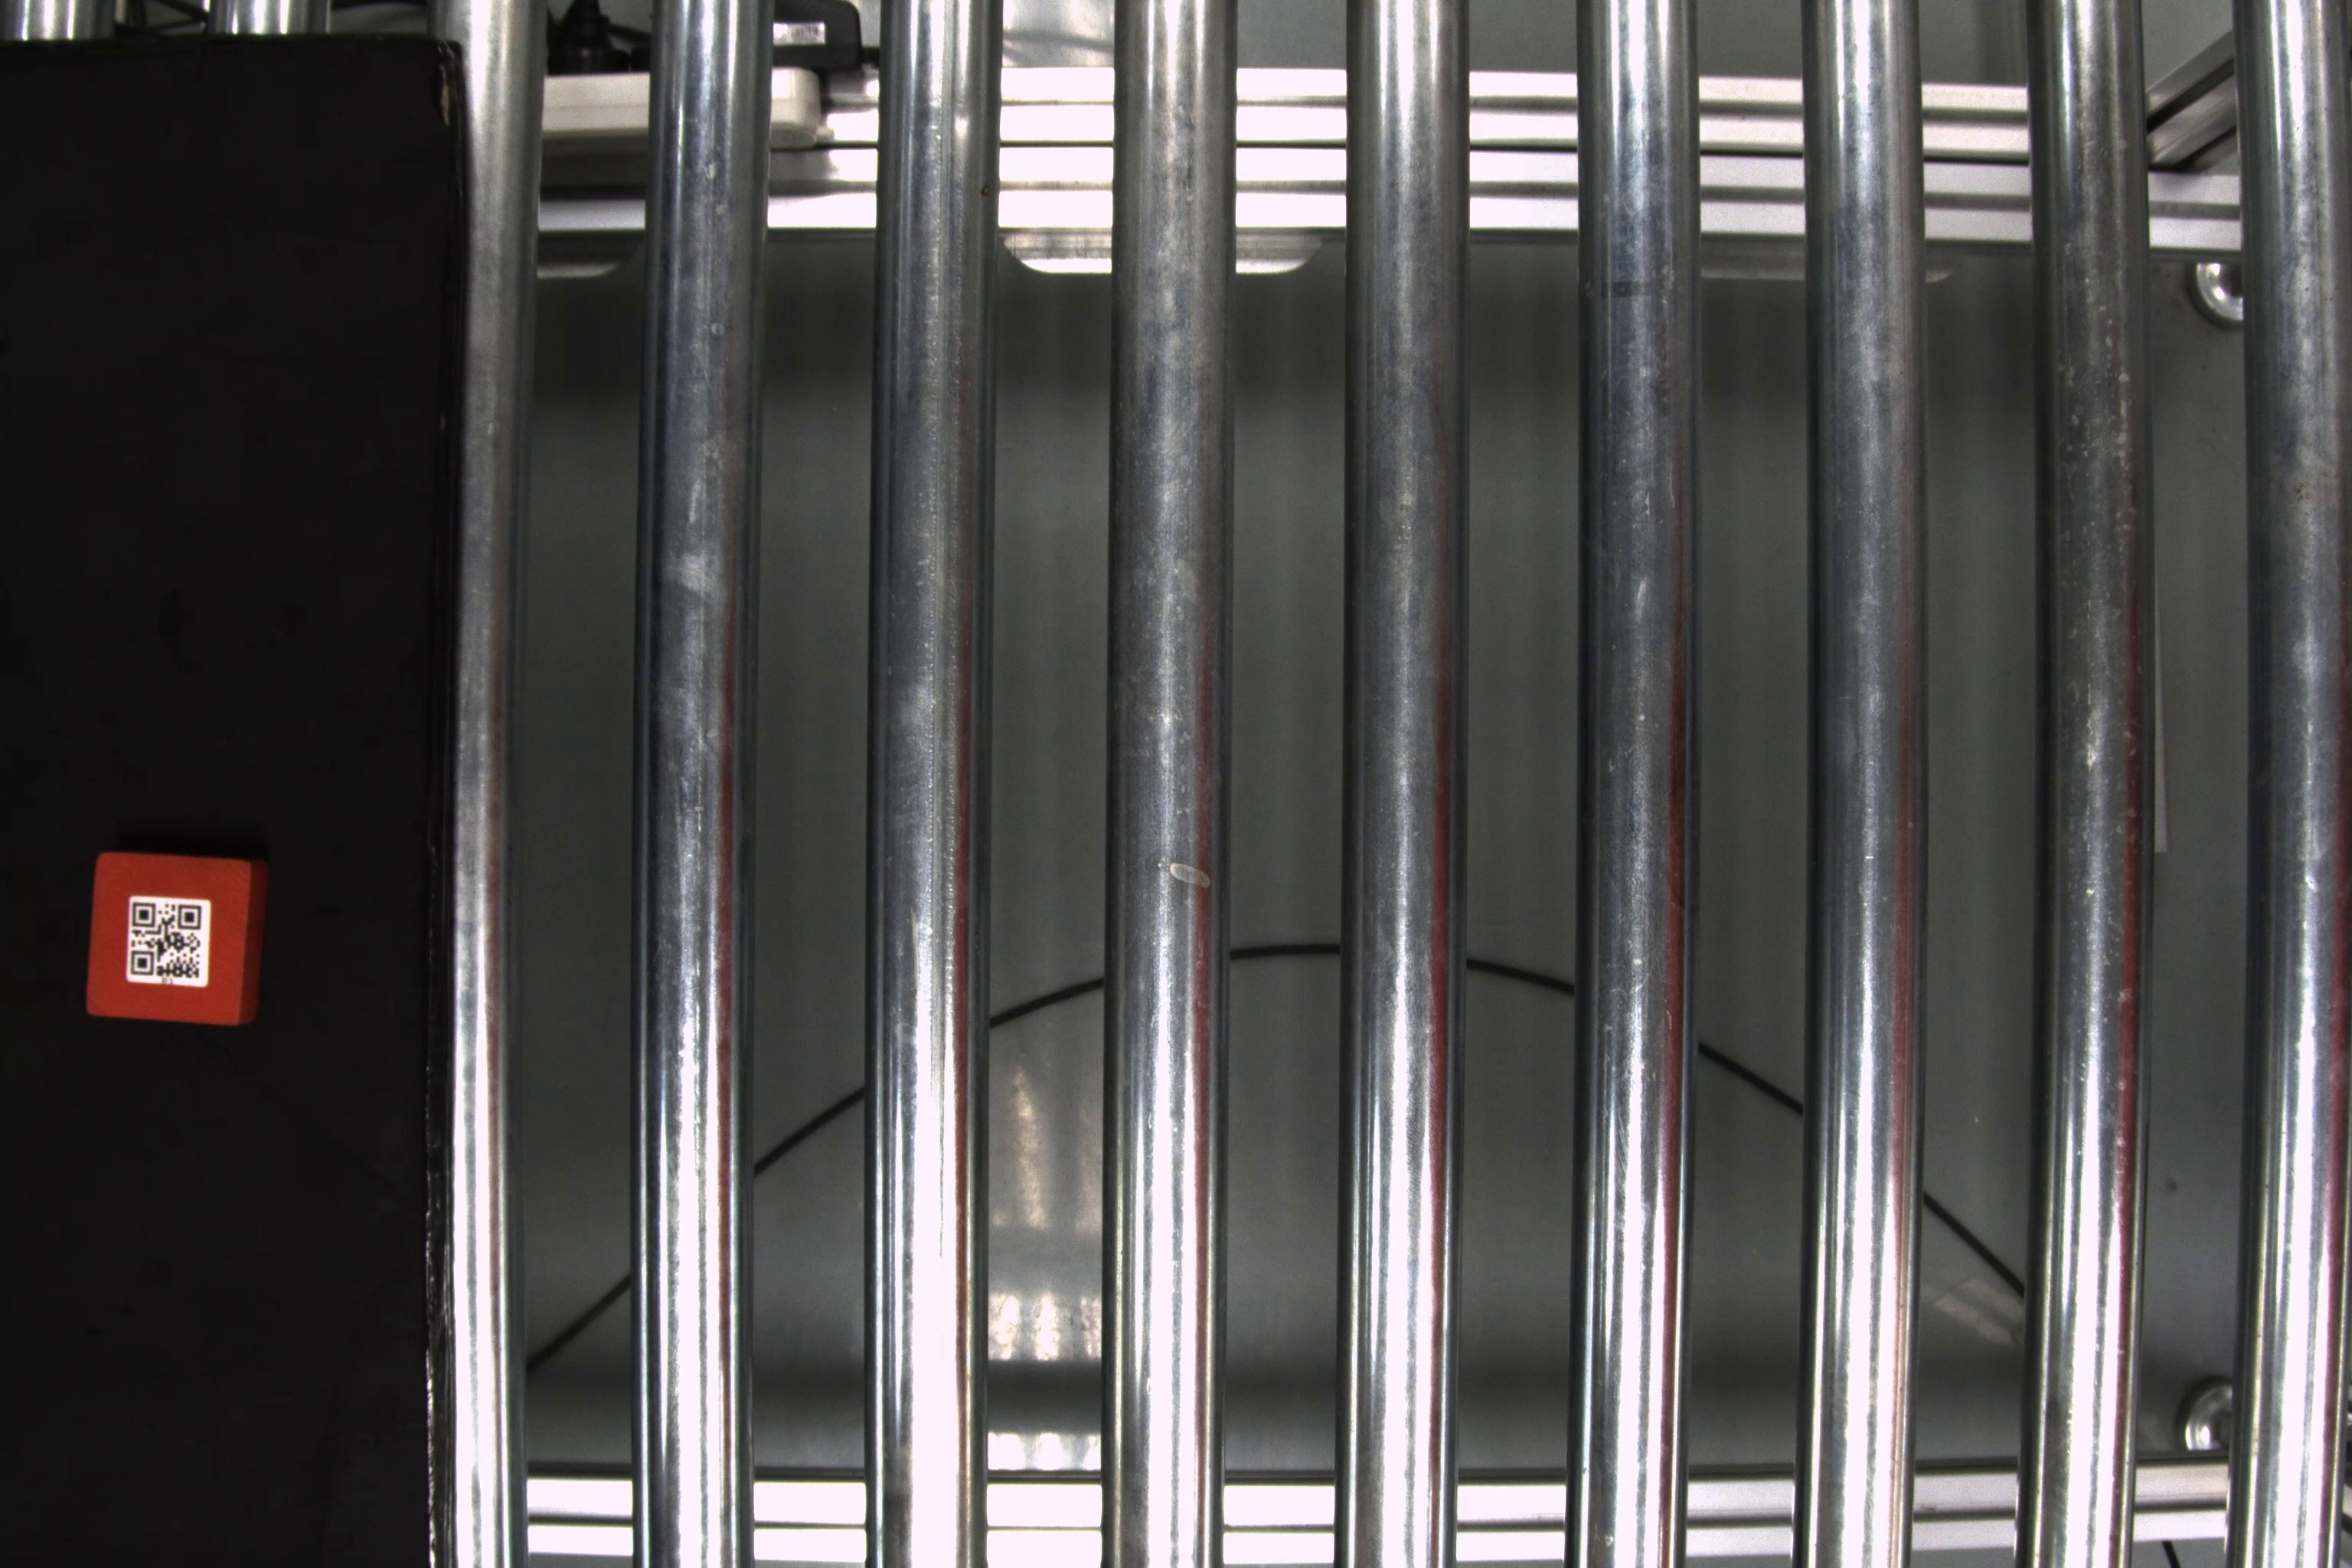wood: (80, 847, 271, 1032)
